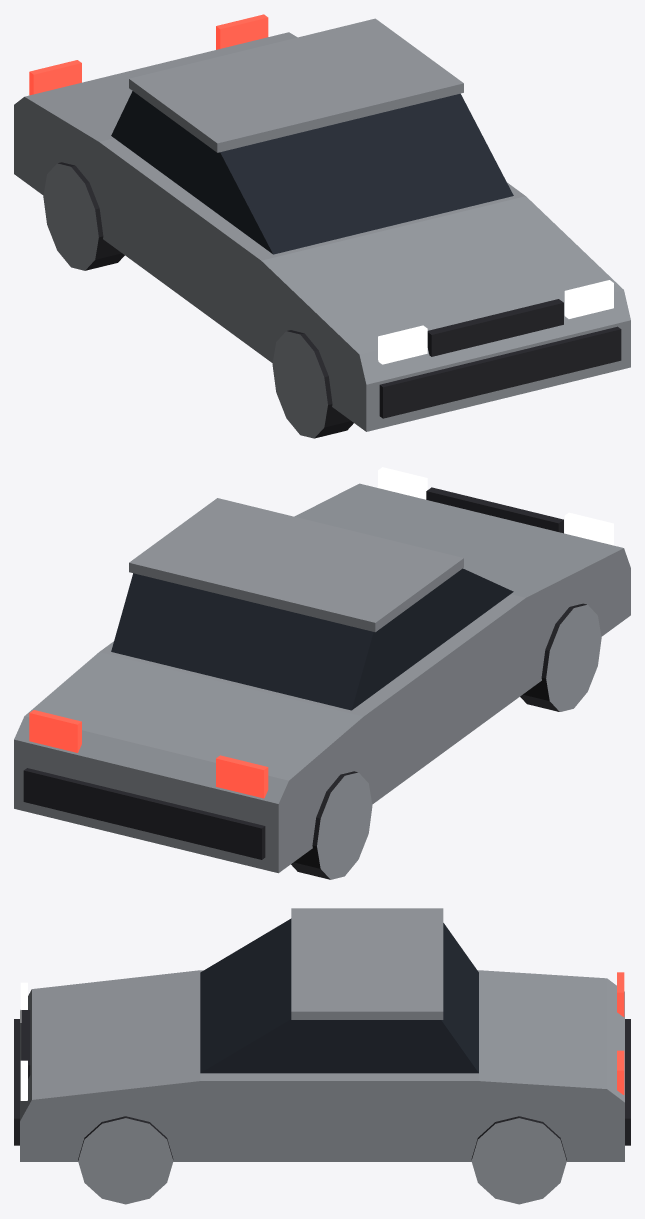
File: sedan_silver.glb
3 views of the same model, one above another, from view 1: azimuth 30°, elevation 25°; view 2: azimuth 150°, elevation 25°; view 3: azimuth 270°, elevation 25° (orthographic). The views are drawn at different scales.
Visible parts, largest first — view 1: sedan_silver, wheel_FR, wheel_RR; view 2: sedan_silver, wheel_FR, wheel_RR; view 3: sedan_silver, wheel_FL, wheel_RL.
Part boxes in pixels (bbox=[...]): sedan_silver: bbox=[14, 14, 630, 431]; wheel_FR: bbox=[272, 330, 353, 438]; wheel_RR: bbox=[43, 162, 124, 270]; sedan_silver: bbox=[14, 467, 630, 873]; wheel_FR: bbox=[520, 603, 601, 711]; wheel_RR: bbox=[291, 771, 372, 879]; sedan_silver: bbox=[14, 908, 630, 1161]; wheel_FL: bbox=[78, 1116, 173, 1204]; wheel_RL: bbox=[471, 1116, 566, 1204].
Bounding box in the file's own units: 1.82 × 1.38 × 4.14.
